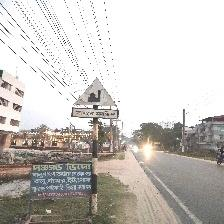Mosque in front: (72, 78, 118, 119)
